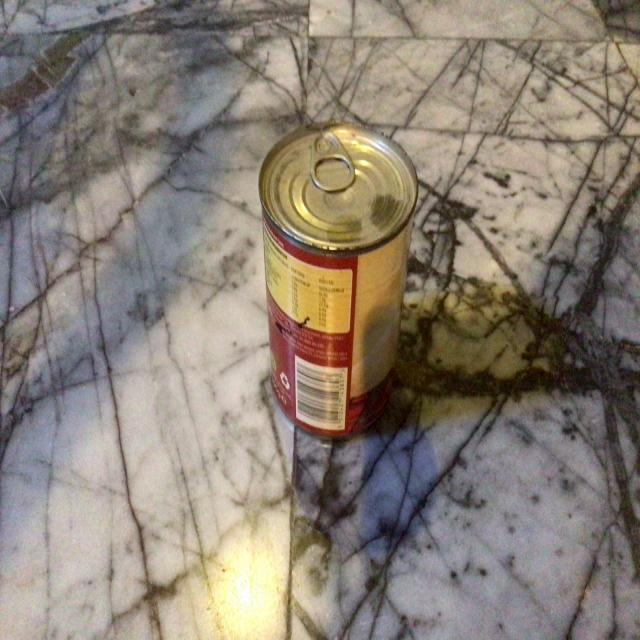can: (259, 105, 415, 438)
